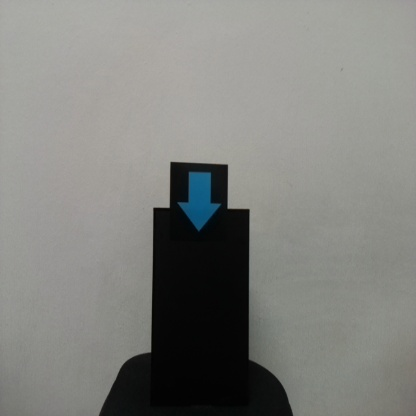id_2: (170, 163, 228, 245)
